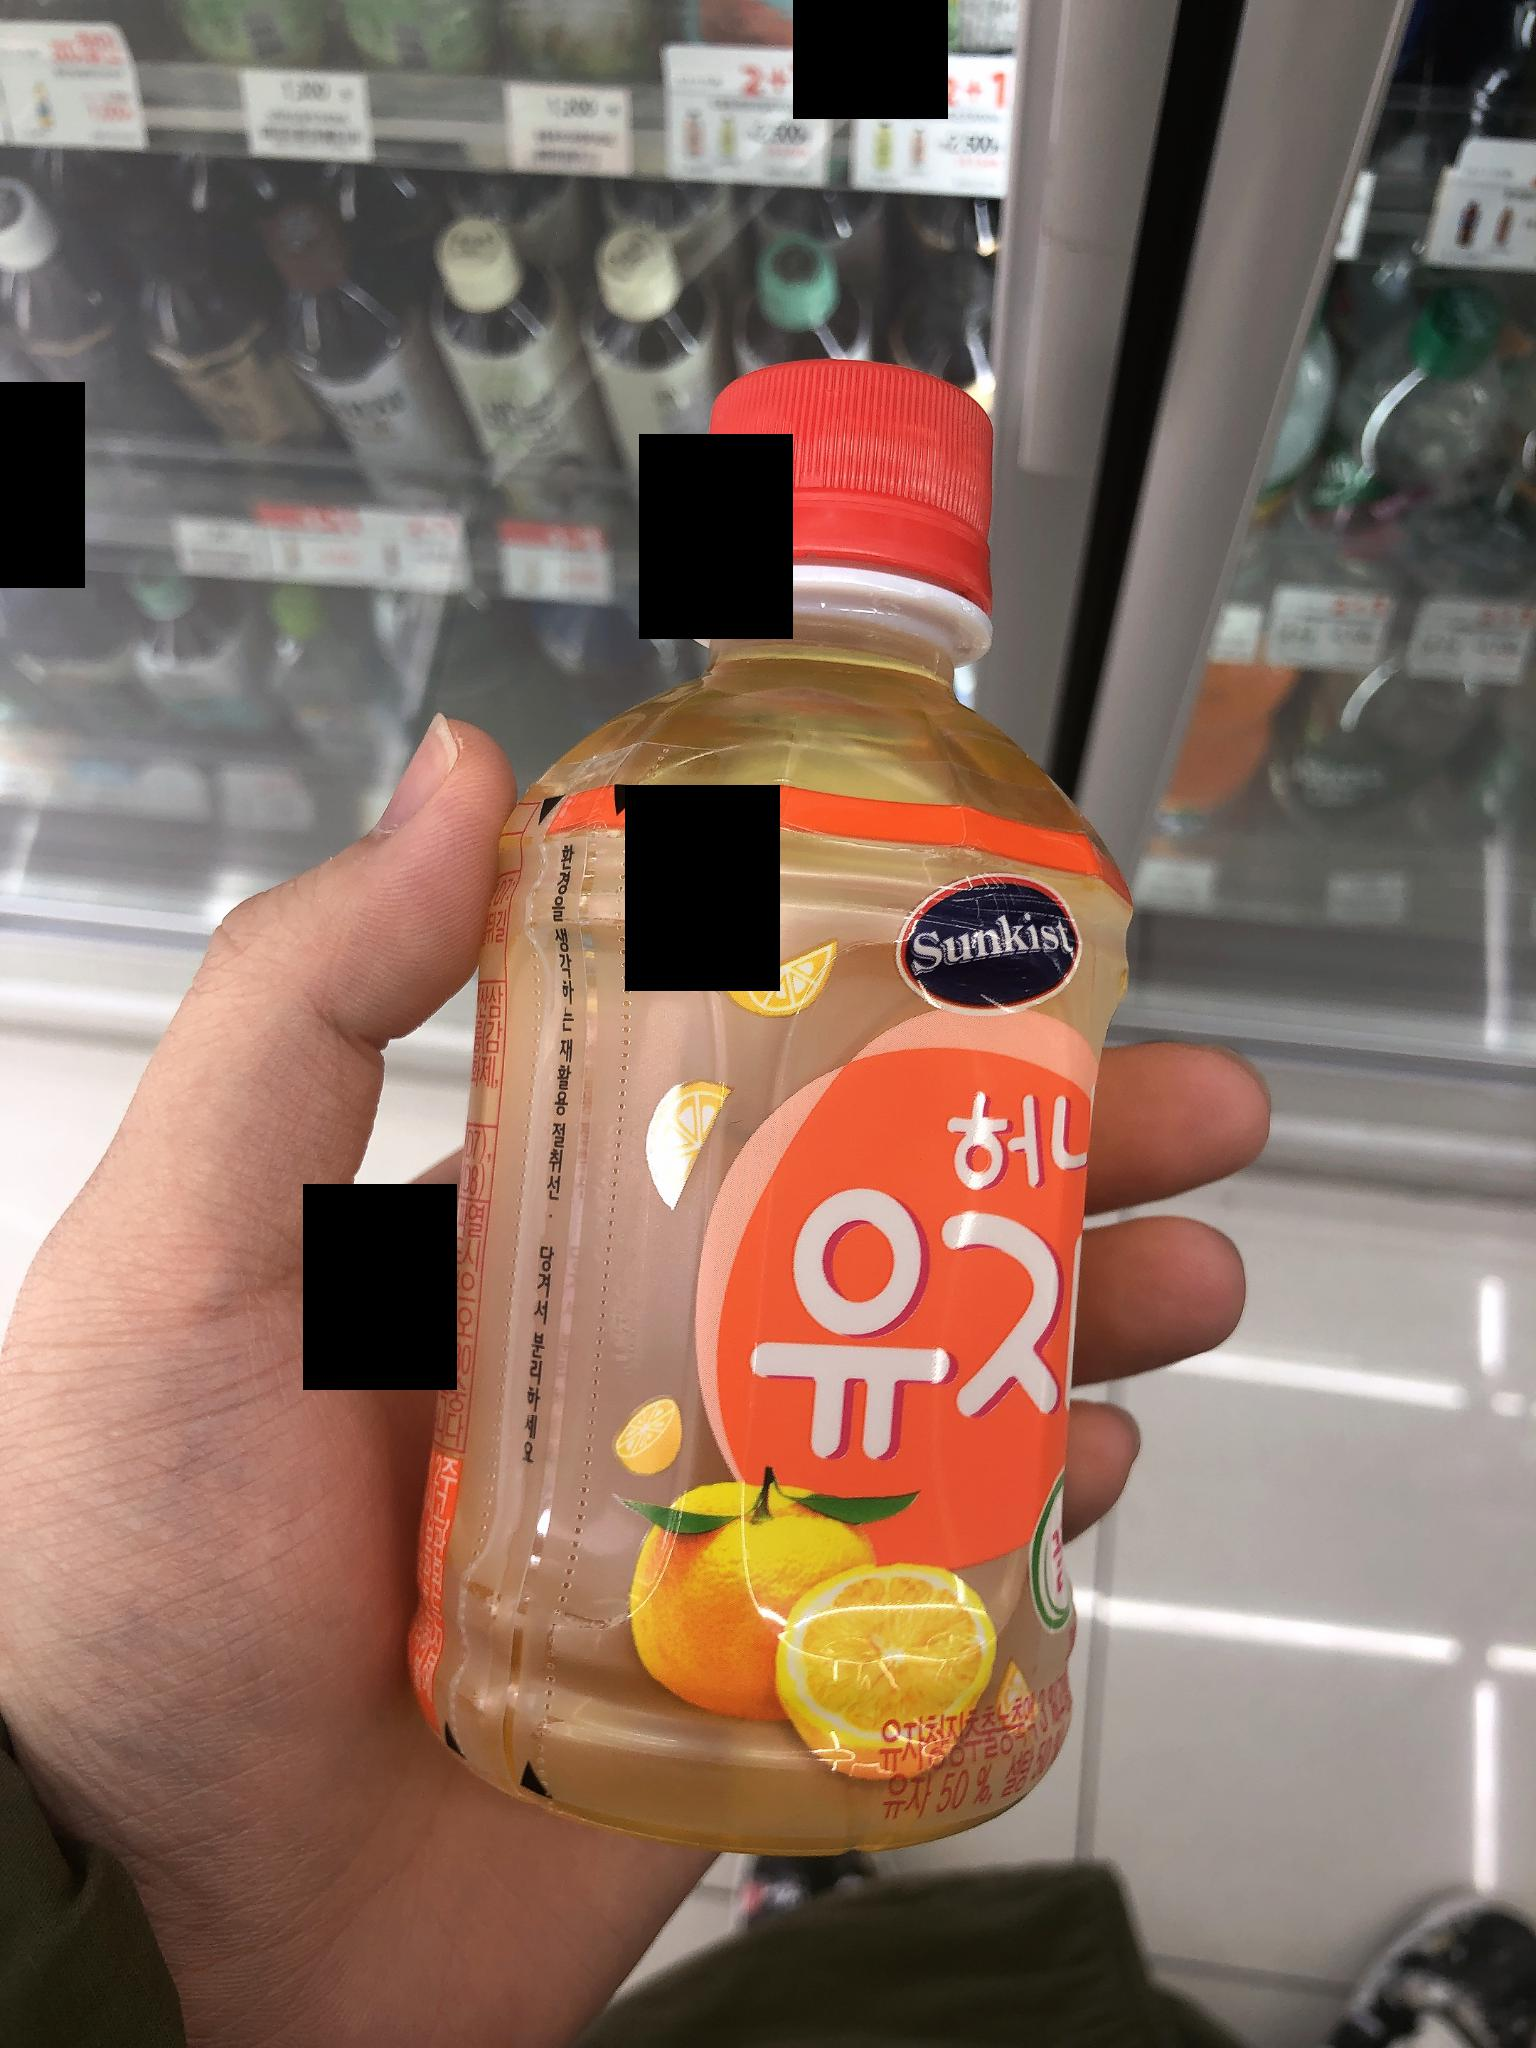honeyyuja: (373, 263, 1160, 1885)
